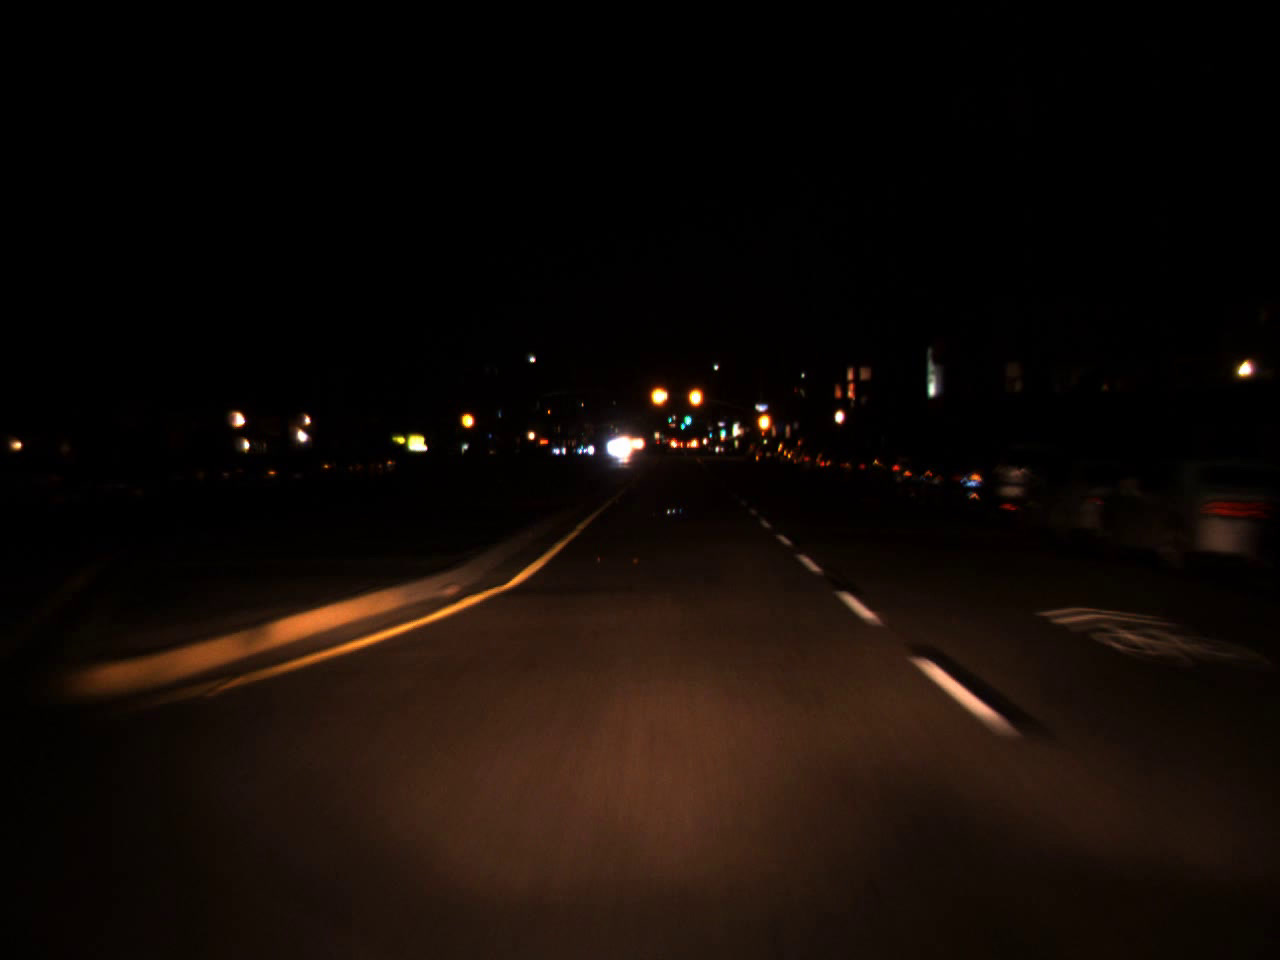go: (683, 405, 690, 426), (664, 409, 673, 424), (718, 421, 725, 436)
warning: (647, 373, 669, 418), (685, 377, 703, 417), (755, 403, 773, 440), (459, 402, 475, 437)
